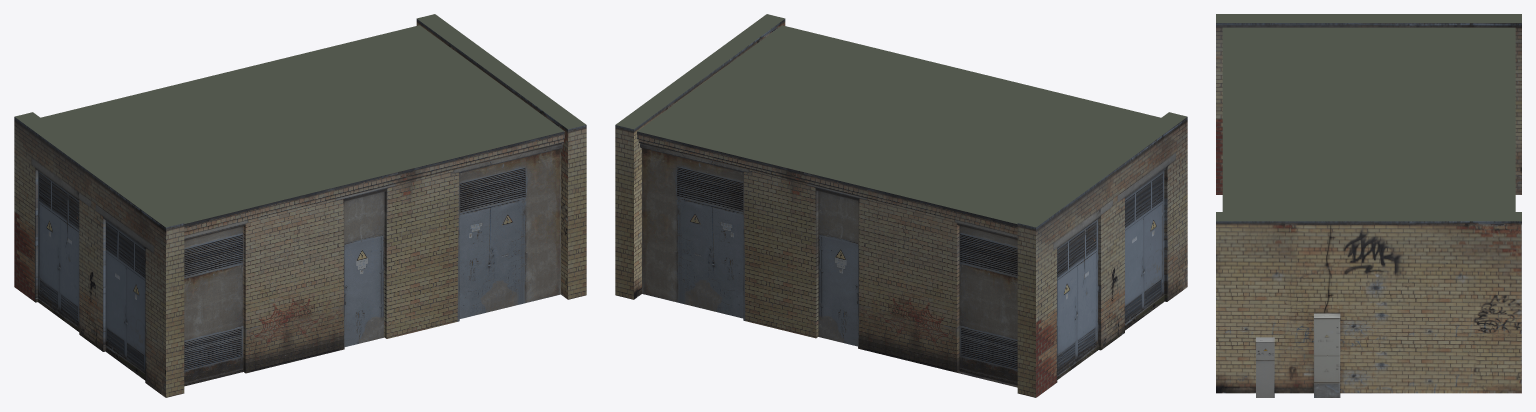
The model's file is elektr1.FBX.
3 views of the same model, side by side, from view 1: azimuth 30°, elevation 25°; view 2: azimuth 150°, elevation 25°; view 3: azimuth 270°, elevation 25° (orthographic).
Parts seen in each view (by area): view 1: Box002; view 2: Box002; view 3: Box002.
Part boxes in pixels (<box>): Box002: <box>14,14,586,397</box>; Box002: <box>615,14,1187,397</box>; Box002: <box>1216,14,1521,397</box>.
Bounding box in the file's own units: 70.42 × 26.65 × 42.94.
